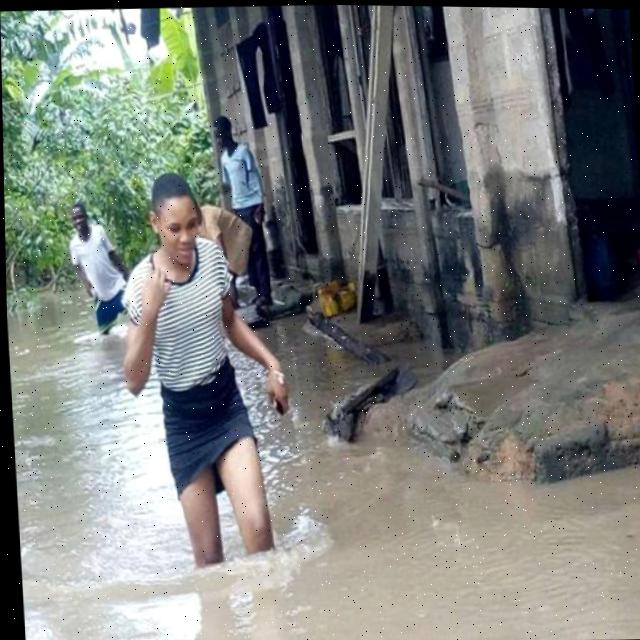civilian: (110, 166, 286, 574), (204, 104, 286, 326), (57, 195, 133, 342), (189, 190, 266, 321)
